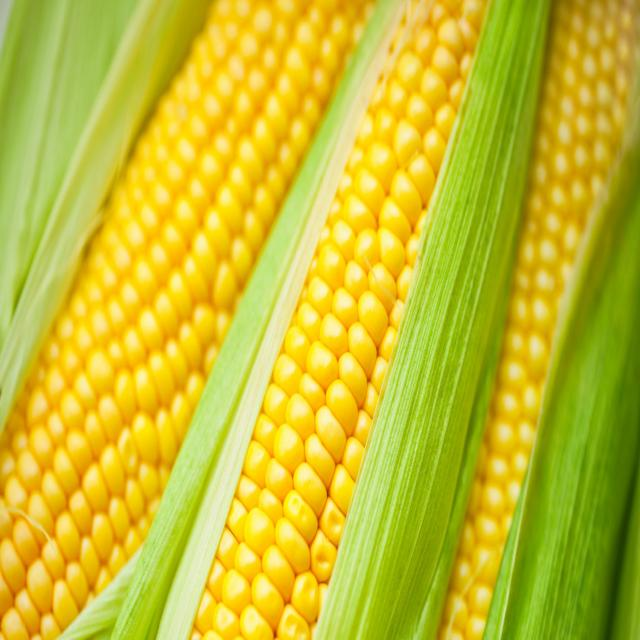Corn ear: (210, 10, 456, 640), (0, 147, 189, 639)
